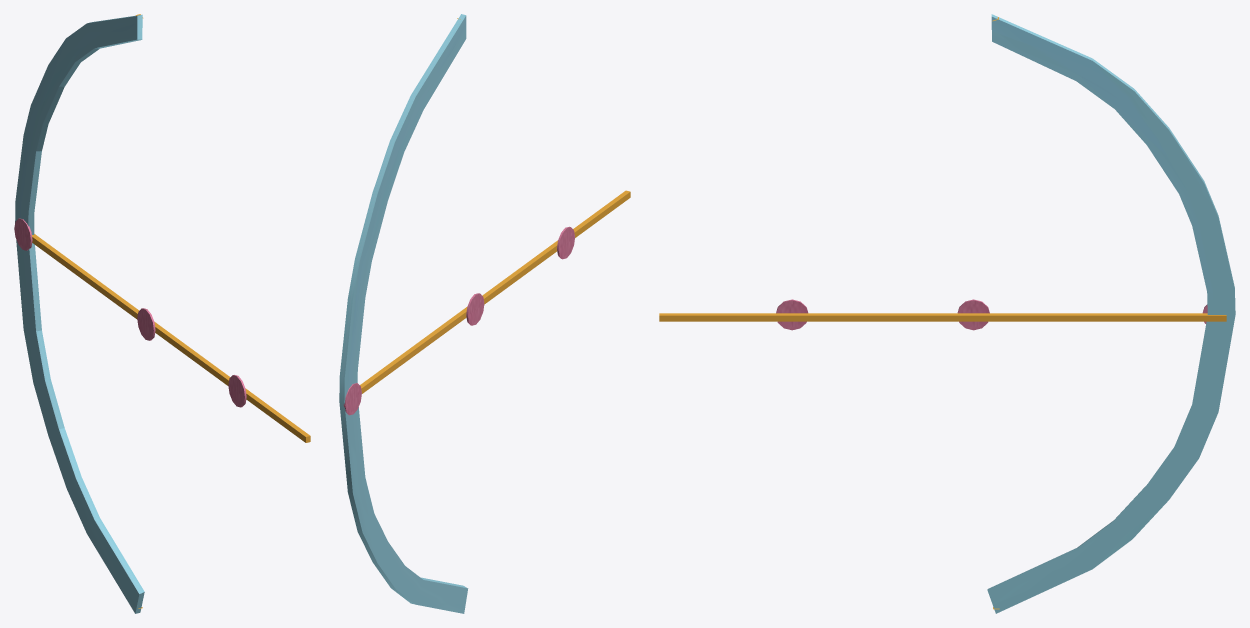
The model's file is focal_length.fbx.
3 views of the same model, side by side, from view 1: azimuth 30°, elevation 25°; view 2: azimuth 150°, elevation 25°; view 3: azimuth 270°, elevation 25° (orthographic).
Parts seen in each view (by area): view 1: focal_length; view 2: focal_length; view 3: focal_length.
Part boxes in pixels (<box>): focal_length: <box>14,14,310,613</box>; focal_length: <box>339,14,630,613</box>; focal_length: <box>659,14,1235,613</box>.
Bounding box in the file's own units: 0.4984 × 38.58 × 33.71.
Materials: 1 (1 with a texture image).
